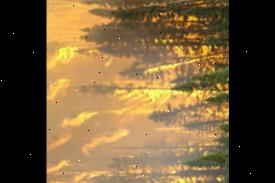fire: (47, 0, 229, 183)
